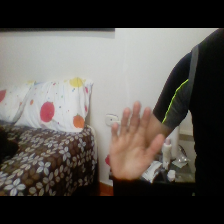left: (105, 99, 168, 181)
